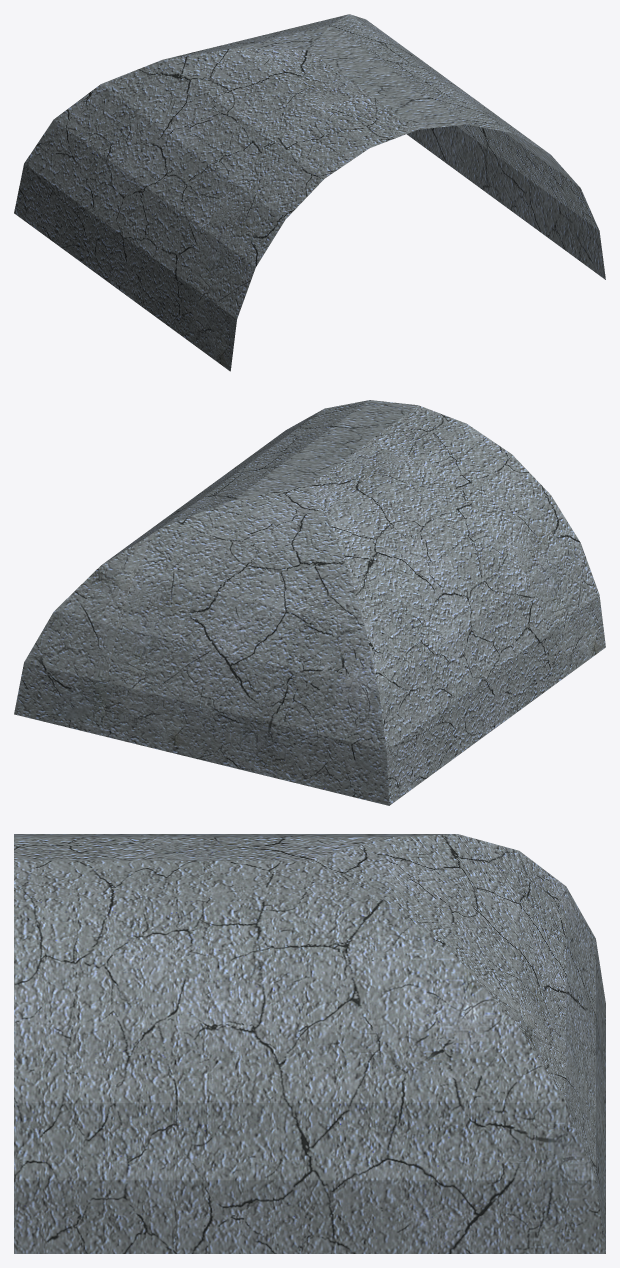
The model's file is ceiling_04.fbx.
The picture shows the model from 3 angles, top to bottom: view 1: azimuth 30°, elevation 25°; view 2: azimuth 150°, elevation 25°; view 3: azimuth 270°, elevation 25°; orthographic projection. The views are drawn at different scales.
Parts seen in each view (by area): view 1: ceiling_04; view 2: ceiling_04; view 3: ceiling_04.
Part boxes in pixels (bbox=[...]): ceiling_04: bbox=[14, 14, 605, 371]; ceiling_04: bbox=[14, 400, 605, 805]; ceiling_04: bbox=[14, 834, 605, 1253].
Size of the model in its own units: 100 by 50 by 100.
